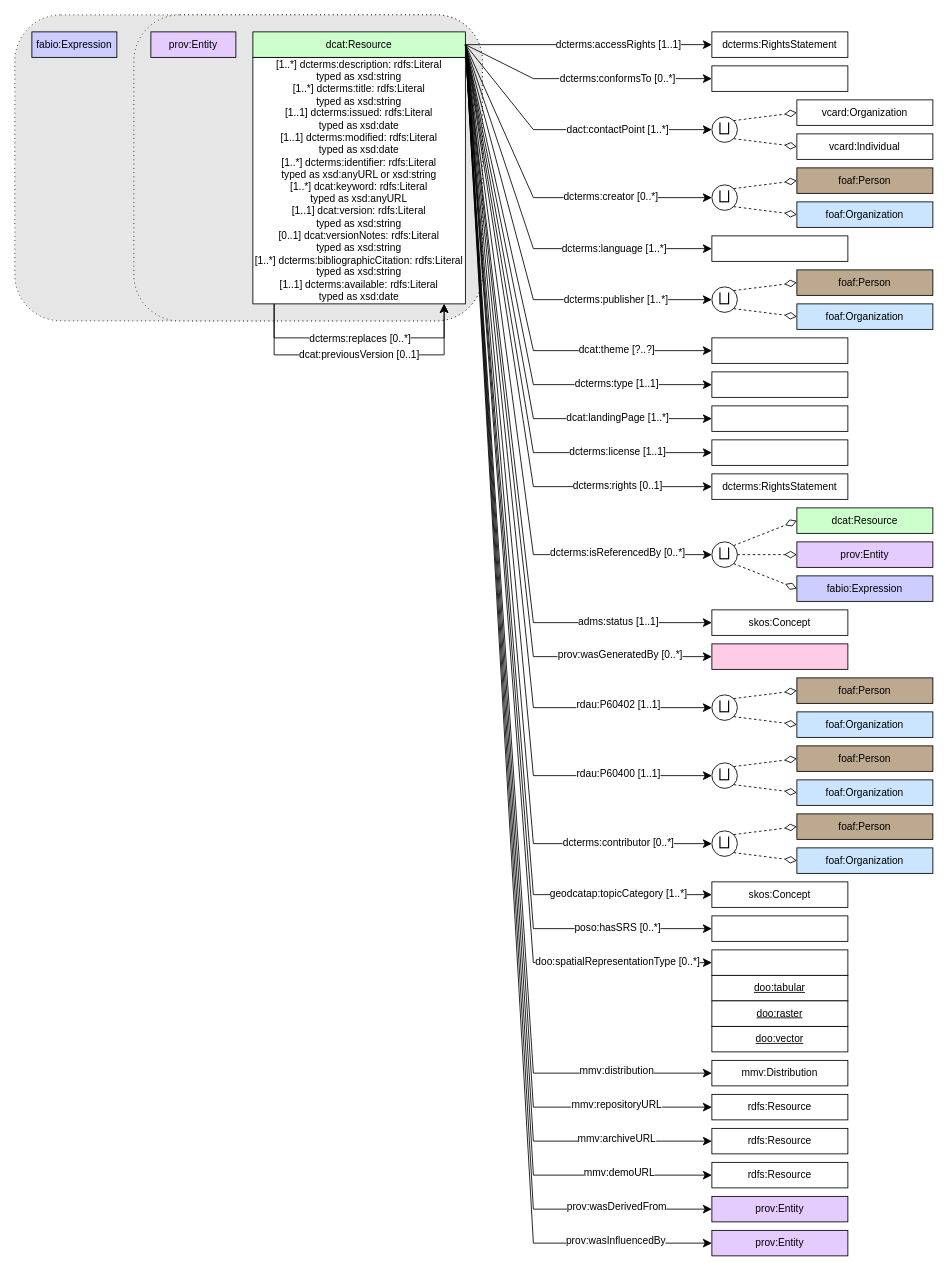
This 948x1271 diagram has some shape labels left out. The shapes that lost their labels are listed below. From the top down, each one's box as (x1, y1, x2, y2) in pixels, then its label:
(711, 65, 848, 91): dcterms:Standard
(711, 235, 848, 261): dcterms:LinguisticSystem
(711, 337, 848, 363): skos:Concept (probs)
(711, 371, 848, 397): rdfs:Class
(711, 405, 848, 431): foaf:Document
(711, 439, 848, 465): dcterms:LicenseDocument
(711, 643, 848, 669): prov:Activity
(711, 915, 848, 941): poso:SRS
(711, 949, 848, 975): doo:SpatialRepresentation
